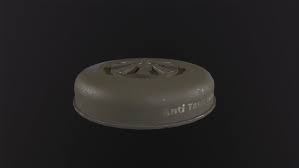car: (59, 43, 246, 151)
